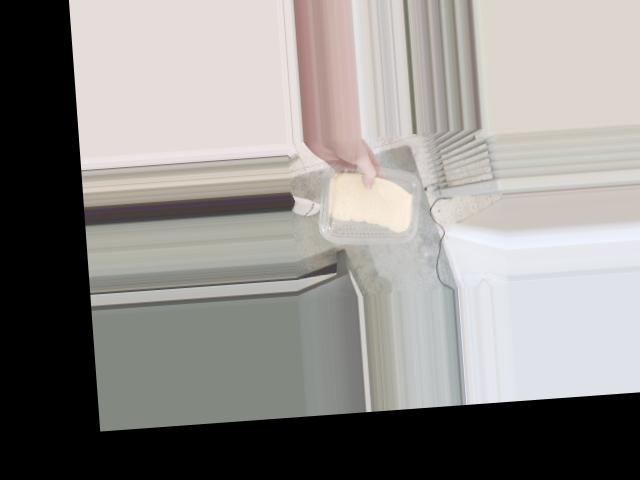cheese: (316, 161, 422, 241)
